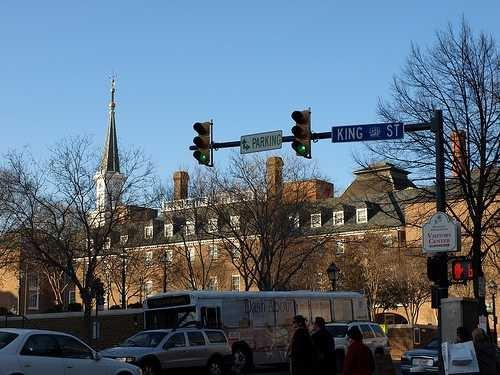green: (190, 118, 216, 170), (294, 109, 311, 161)
